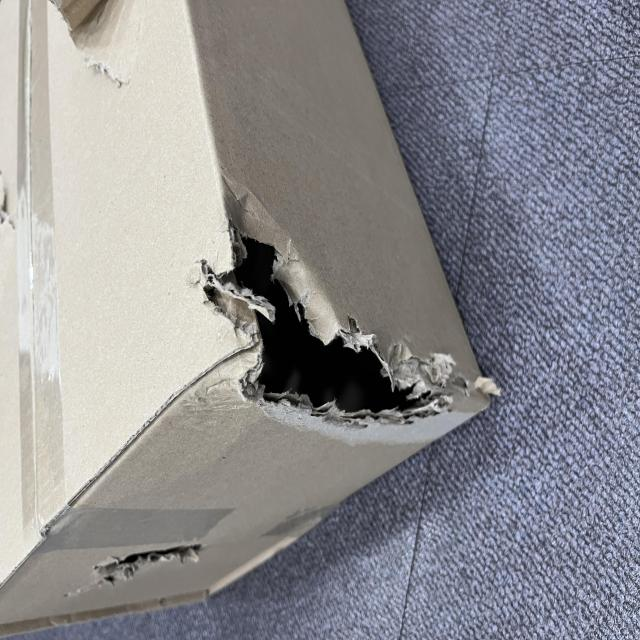damaged: (148, 269, 330, 640)
